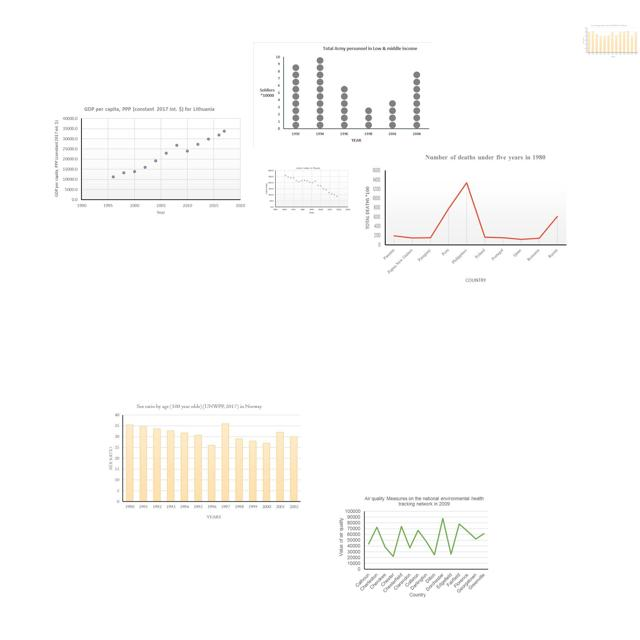Graph: (359, 151, 572, 290), (107, 402, 306, 522), (50, 103, 250, 219), (253, 42, 433, 147), (336, 494, 491, 600), (265, 166, 351, 214), (582, 24, 639, 58)
